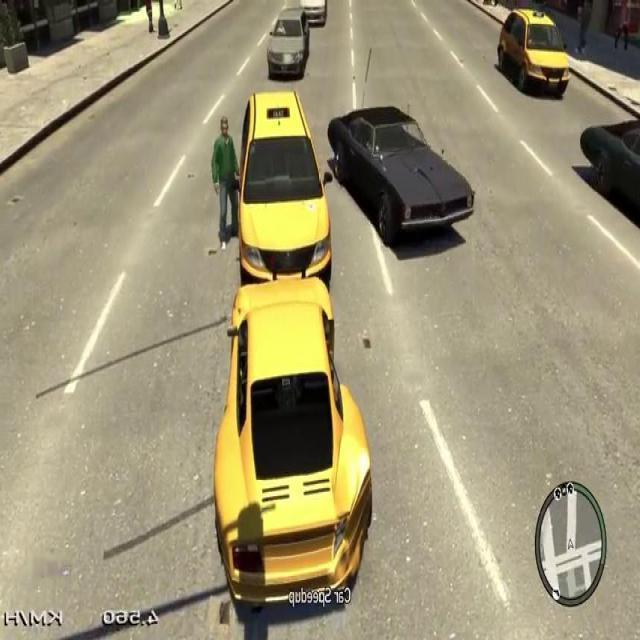accident: (210, 60, 377, 616)
